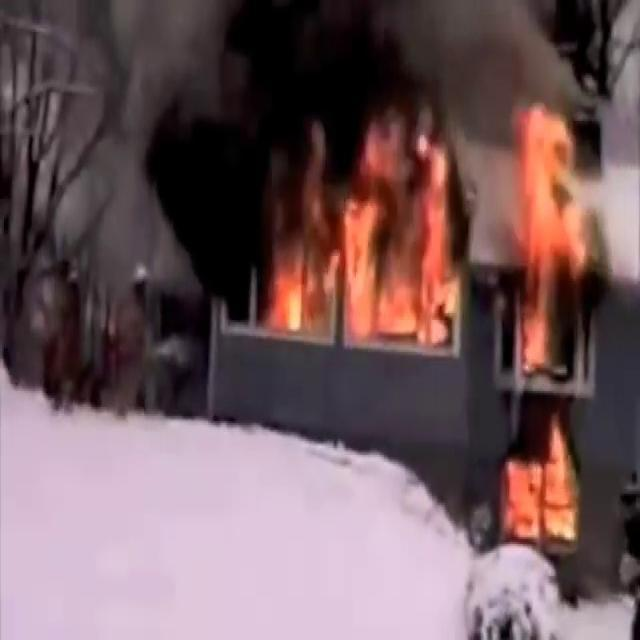Fire: (265, 96, 465, 354), (493, 92, 598, 392), (502, 406, 580, 544)
Smoke: (33, 0, 576, 228)
